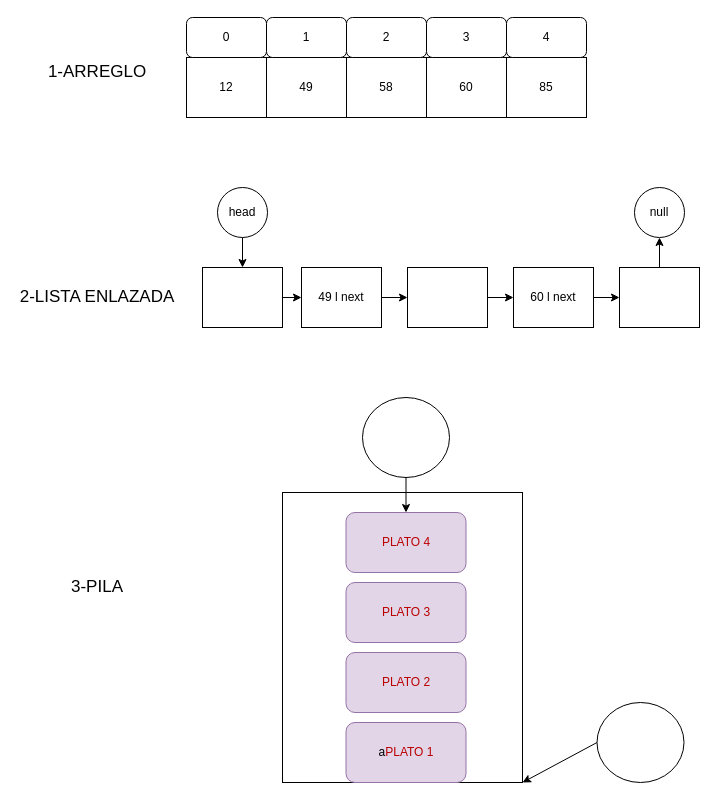
The diagram is 717 pixels wide and 808 high, and some of its shapes have lost their labels. Each missing label, with the centre of its shape:
12 l next: point 242,297
58 l next: point 447,297
85 l next: point 659,297
BASE DE LA PILA: point 640,742
TOPE: point 406,437
